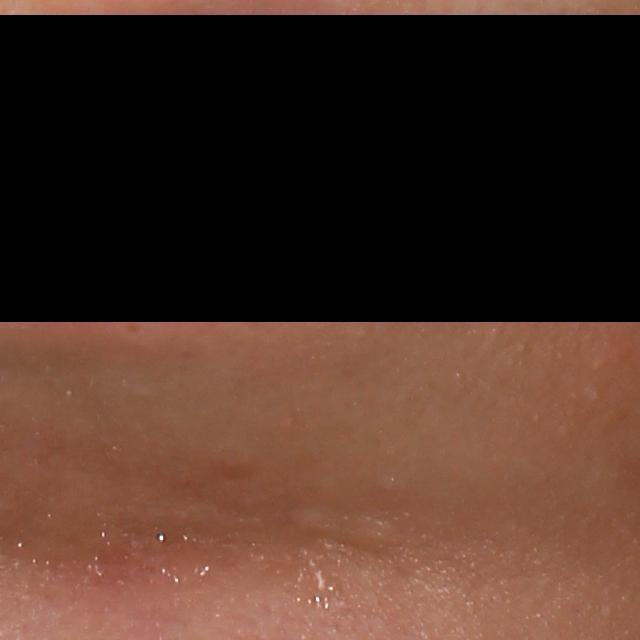hypertrophic_scar: (287, 506, 393, 551)
